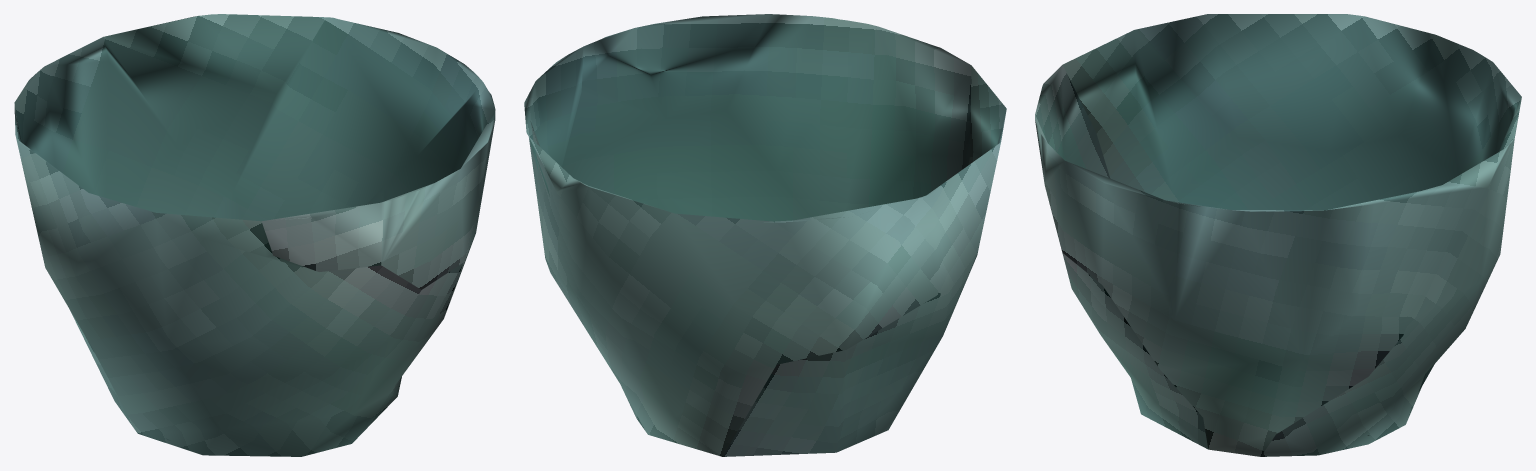
Rendered from Ecoforms_Plant_Container_FB6_Tur-low.glb.
The picture shows the model from 3 angles, left to right: view 1: azimuth 30°, elevation 25°; view 2: azimuth 150°, elevation 25°; view 3: azimuth 270°, elevation 25°; orthographic projection.
Parts seen in each view (by area): view 1: Ecoforms_Plant_Container_FB6_Tur; view 2: Ecoforms_Plant_Container_FB6_Tur; view 3: Ecoforms_Plant_Container_FB6_Tur.
Part boxes in pixels (x1=…): Ecoforms_Plant_Container_FB6_Tur: x1=14, y1=14, x2=495, y2=456; Ecoforms_Plant_Container_FB6_Tur: x1=524, y1=14, x2=1006, y2=456; Ecoforms_Plant_Container_FB6_Tur: x1=1035, y1=14, x2=1521, y2=456.
Bounding box in the file's own units: 0.1579 × 0.1076 × 0.1604.
Materials: 1 (1 with a texture image).
